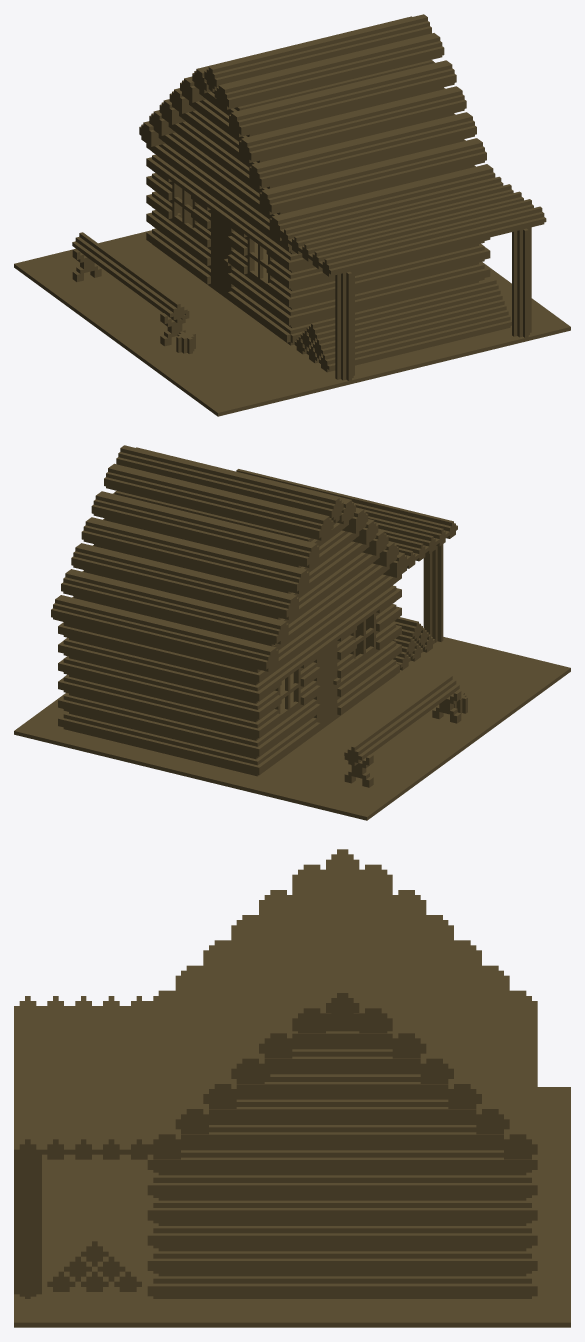
File: WoodcutterHousePlaceholder.fbx
3 renders of one model, top to bottom at view 1: azimuth 30°, elevation 25°; view 2: azimuth 150°, elevation 25°; view 3: azimuth 270°, elevation 25°, orthographic. The views are drawn at different scales.
Visible parts, largest first — view 1: 100_100_100_voxel_Holzfallerhutte; view 2: 100_100_100_voxel_Holzfallerhutte; view 3: 100_100_100_voxel_Holzfallerhutte.
Part boxes in pixels (box(x1,y1,x2,y2)): 100_100_100_voxel_Holzfallerhutte: box(14, 14, 570, 416); 100_100_100_voxel_Holzfallerhutte: box(14, 445, 570, 820); 100_100_100_voxel_Holzfallerhutte: box(14, 849, 570, 1327).
Size of the model in its own units: 1000 by 630 by 1000.
